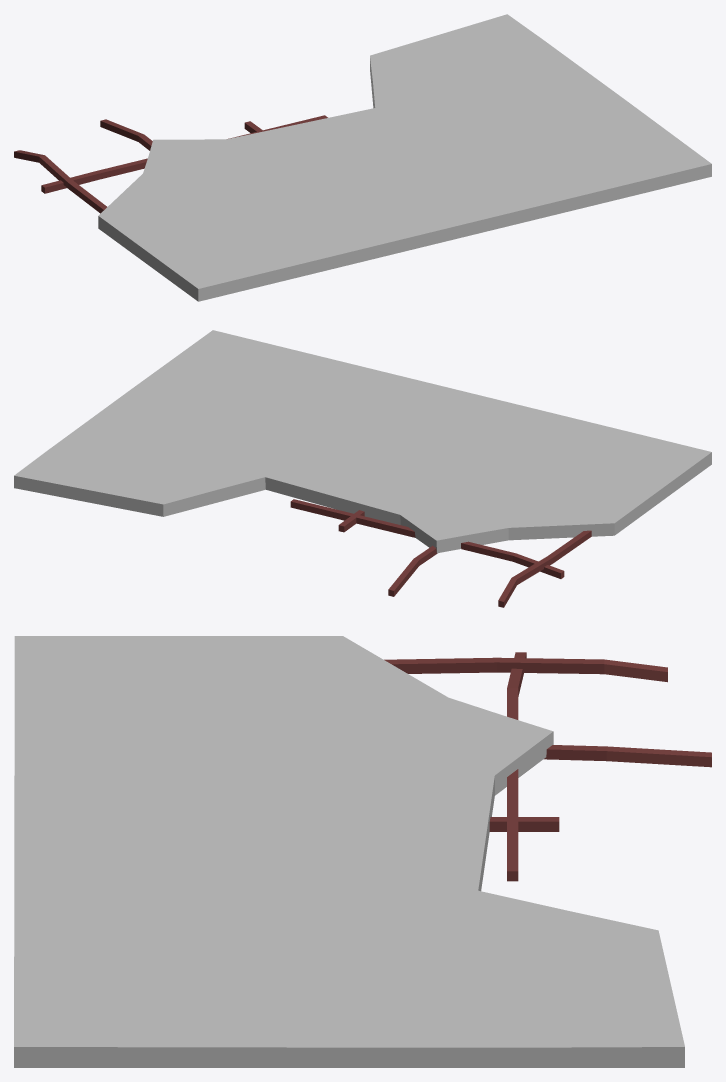
The model's file is LightStoneFloorLargeBrokenConcreteFloor2.fbx.
3 renders of one model, top to bottom at view 1: azimuth 30°, elevation 25°; view 2: azimuth 150°, elevation 25°; view 3: azimuth 270°, elevation 25°, orthographic. The views are drawn at different scales.
Parts seen in each view (by area): view 1: LightStoneFloorLargeBrokenConcreteFloor2; view 2: LightStoneFloorLargeBrokenConcreteFloor2; view 3: LightStoneFloorLargeBrokenConcreteFloor2.
Part boxes in pixels (x1,y1,x2,y2): LightStoneFloorLargeBrokenConcreteFloor2: (14, 14, 711, 301); LightStoneFloorLargeBrokenConcreteFloor2: (14, 330, 711, 607); LightStoneFloorLargeBrokenConcreteFloor2: (14, 636, 711, 1067).
Size of the model in its own units: 1053 by 41.72 by 754.
2 materials, 2 textured.
